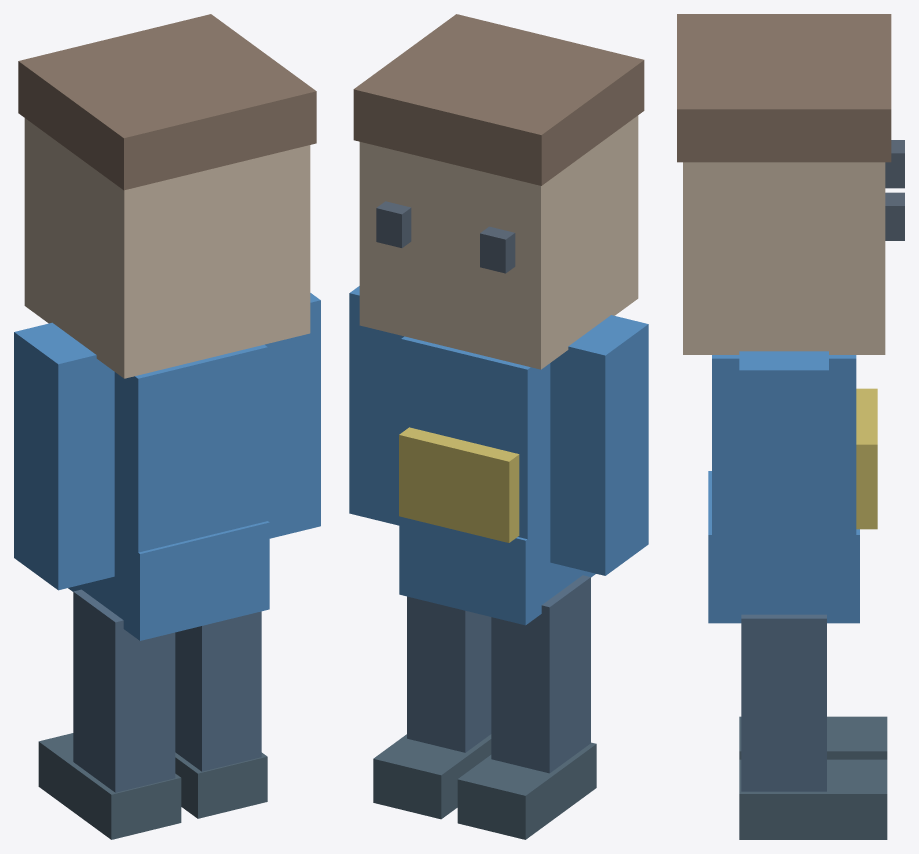
Rendered from Player_Boy.glb.
3 views of the same model, side by side, from view 1: azimuth 30°, elevation 25°; view 2: azimuth 150°, elevation 25°; view 3: azimuth 270°, elevation 25° (orthographic). The views are drawn at different scales.
Visible parts, largest first — view 1: Part_08, Part_09, Part_00, Part_02, Part_04, Part_01, Part_05, Part_03, Part_06, Part_07; view 2: Part_08, Part_09, Part_02, Part_00, Part_04, Part_01, Part_05, Part_12, Part_03, Part_06, Part_07, Part_10 (+1 smaller); view 3: Part_08, Part_09, Part_03, Part_05, Part_00, Part_07, Part_01, Part_12, Part_06, Part_11, Part_10.
Part boxes in pixels (bbox=[...]): Part_08: bbox=[24, 118, 310, 378]; Part_09: bbox=[18, 14, 316, 190]; Part_00: bbox=[114, 344, 267, 569]; Part_02: bbox=[14, 322, 114, 590]; Part_04: bbox=[73, 589, 175, 792]; Part_01: bbox=[68, 521, 269, 640]; Part_05: bbox=[175, 611, 261, 771]; Part_03: bbox=[265, 293, 320, 538]; Part_06: bbox=[38, 733, 181, 839]; Part_07: bbox=[175, 752, 267, 818]; Part_08: bbox=[359, 115, 638, 369]; Part_09: bbox=[353, 14, 644, 185]; Part_02: bbox=[550, 315, 648, 575]; Part_00: bbox=[401, 336, 550, 539]; Part_04: bbox=[491, 575, 590, 773]; Part_01: bbox=[399, 516, 595, 625]; Part_05: bbox=[407, 596, 491, 752]; Part_12: bbox=[399, 427, 519, 542]; Part_03: bbox=[349, 286, 403, 525]; Part_06: bbox=[457, 742, 596, 839]; Part_07: bbox=[373, 734, 491, 819]; Part_10: bbox=[480, 226, 515, 273]; Part_08: bbox=[683, 162, 885, 354]; Part_09: bbox=[677, 14, 891, 162]; Part_03: bbox=[739, 351, 828, 599]; Part_05: bbox=[741, 614, 826, 791]; Part_00: bbox=[712, 355, 856, 552]; Part_07: bbox=[739, 759, 887, 839]; Part_01: bbox=[708, 471, 859, 623]; Part_12: bbox=[856, 388, 877, 529]; Part_06: bbox=[739, 716, 887, 759]; Part_11: bbox=[885, 192, 904, 240]; Part_10: bbox=[885, 140, 904, 188].
Bounding box in the file's own units: 0.79 × 2.1 × 0.585.
